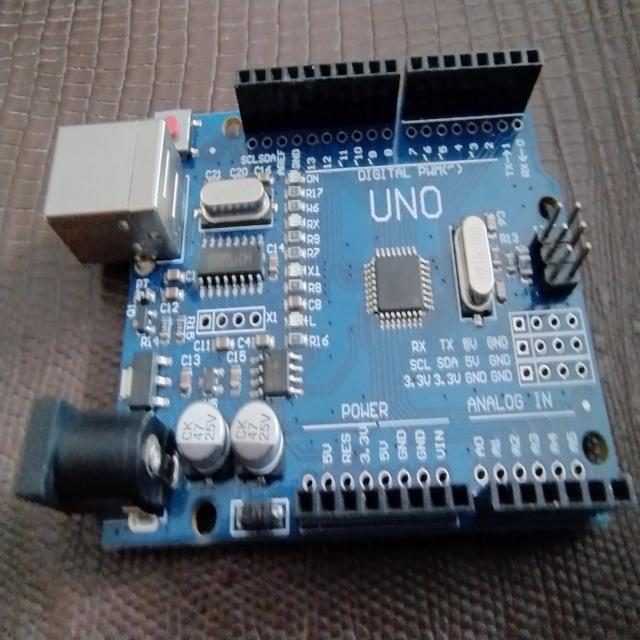arduino: (6, 37, 640, 560)
